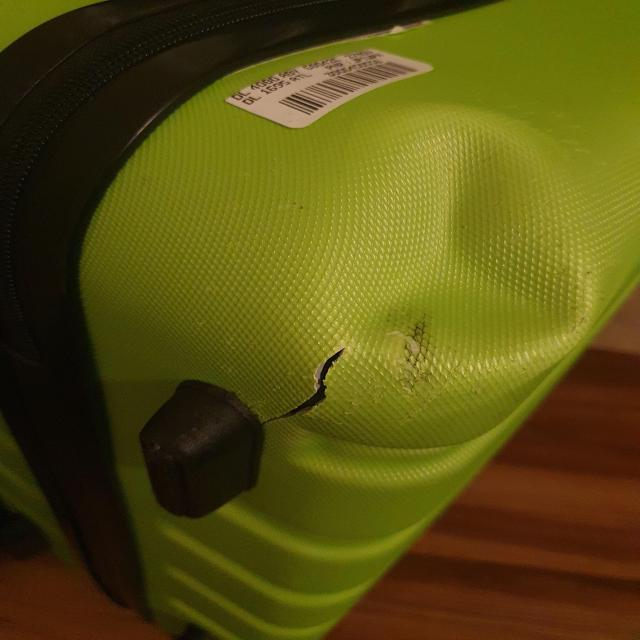Damage-bag: (273, 106, 598, 411), (263, 349, 343, 424)
